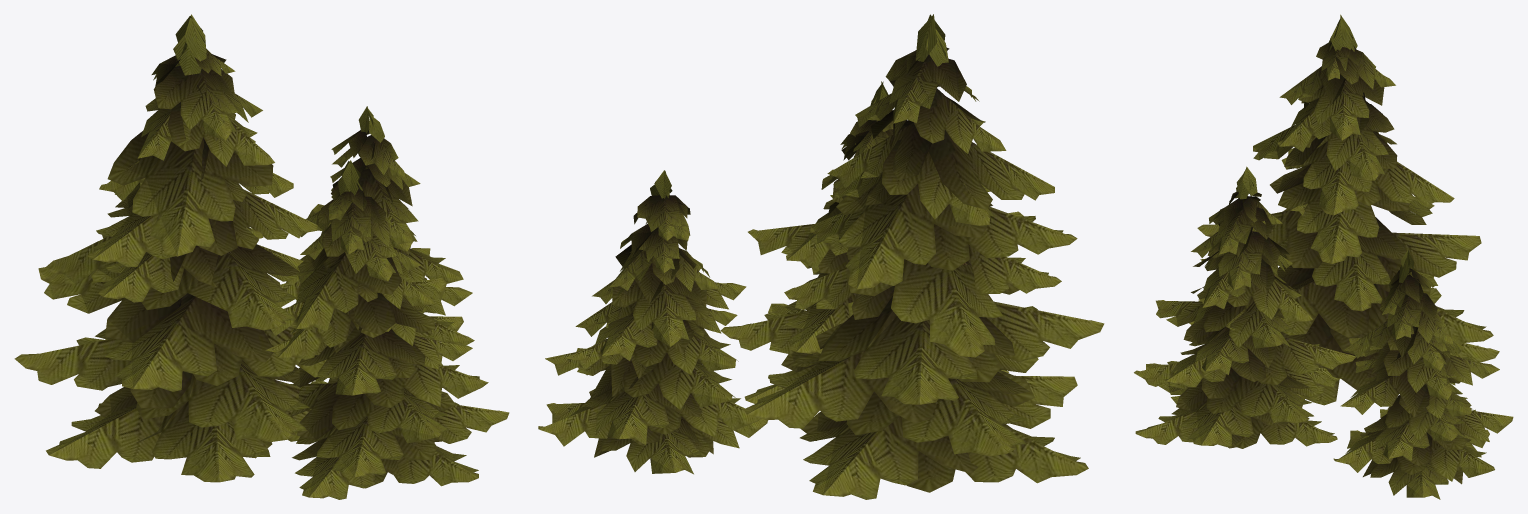
The model's file is pine_tree_triple_no_tank_LOW_ver2.glb.
The picture shows the model from 3 angles, left to right: view 1: azimuth 30°, elevation 25°; view 2: azimuth 150°, elevation 25°; view 3: azimuth 270°, elevation 25°; orthographic projection. The views are drawn at different scales.
Visible parts, largest first — view 1: Leaves_LOW_L; view 2: Leaves_LOW_L; view 3: Leaves_LOW_L.
Boxes of the visible parts, bbox=[...] form: Leaves_LOW_L: bbox=[14, 14, 509, 499]; Leaves_LOW_L: bbox=[538, 14, 1104, 499]; Leaves_LOW_L: bbox=[1134, 14, 1513, 499].
Bounding box in the file's own units: 3.11 × 2.79 × 2.6.
Materials: 1 (1 with a texture image).
